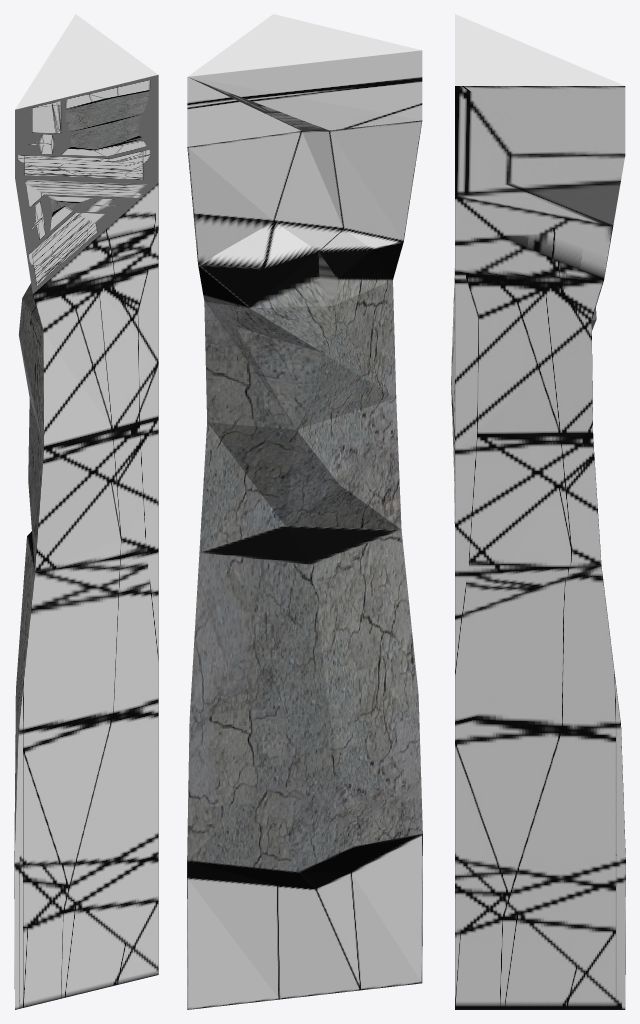
The model's file is EspacioPirateriaEsquinaAperturaInteriorAltoNI.gltf.
3 renders of one model, left to right at view 1: azimuth 30°, elevation 25°; view 2: azimuth 150°, elevation 25°; view 3: azimuth 270°, elevation 25°, orthographic. The views are drawn at different scales.
Visible parts, largest first — view 1: Cubo.32; view 2: Cubo.32; view 3: Cubo.32.
Boxes of the visible parts, x1,y1,x2,y2 form: Cubo.32: [14, 14, 158, 1009]; Cubo.32: [187, 14, 422, 1009]; Cubo.32: [451, 14, 625, 1009].
Bounding box in the file's own units: 0.3354 × 2 × 0.3432.
1 material, 1 textured.
